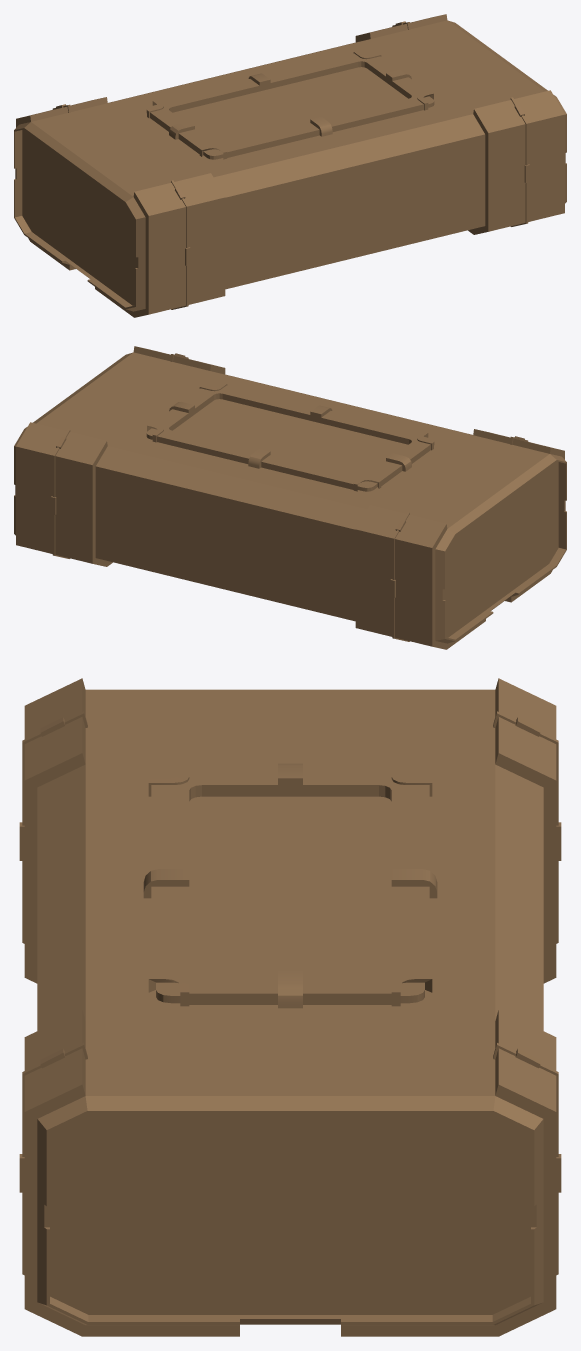
File: containers.fbx
3 renders of one model, top to bottom at view 1: azimuth 30°, elevation 25°; view 2: azimuth 150°, elevation 25°; view 3: azimuth 270°, elevation 25°, orthographic. The views are drawn at different scales.
Parts seen in each view (by area): view 1: mod_container.002, sec_container.008, mod_container.001, sec_container.004, sec_container.003, sec_container, sec_container.005; view 2: mod_container.002, sec_container.008, mod_container.001, sec_container.004, sec_container.003, sec_container, sec_container.005; view 3: mod_container.002, sec_container.008, sec_container.004, mod_container.001, sec_container.003, sec_container.005, sec_container, sec_container.010, sec_container.009.
Boxes of the visible parts, x1,y1,x2,y2 form: mod_container.002: [14, 20, 566, 311]; sec_container.008: [16, 14, 564, 317]; mod_container.001: [173, 67, 408, 144]; sec_container.004: [150, 53, 429, 157]; sec_container.003: [169, 69, 411, 139]; sec_container: [52, 22, 528, 309]; sec_container.005: [146, 51, 434, 159]; mod_container.002: [14, 352, 566, 643]; sec_container.008: [16, 346, 564, 649]; mod_container.001: [173, 399, 407, 476]; sec_container.004: [151, 385, 430, 489]; sec_container.003: [169, 401, 411, 471]; sec_container: [52, 354, 528, 641]; sec_container.005: [146, 383, 434, 491]; mod_container.002: [37, 689, 543, 1325]; sec_container.008: [24, 678, 556, 1336]; sec_container.004: [151, 769, 429, 1004]; mod_container.001: [189, 796, 391, 977]; sec_container.003: [143, 763, 437, 1008]; sec_container.005: [148, 765, 432, 1006]; sec_container: [22, 711, 558, 1275]; sec_container.010: [40, 717, 540, 1068]; sec_container.009: [19, 822, 561, 1192].
Size of the model in its own units: 394 by 115 by 214.
